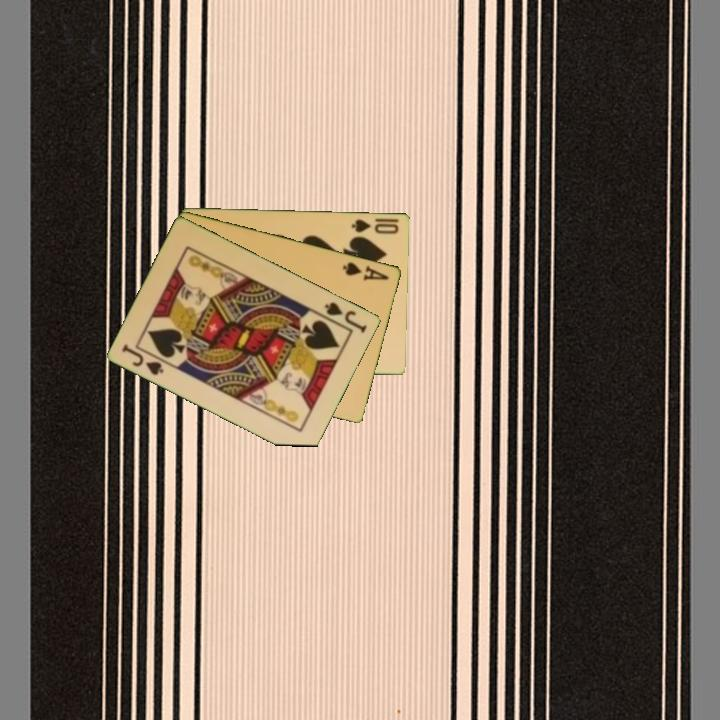10s: (348, 216, 401, 236)
As: (339, 258, 392, 283)
Js: (119, 340, 172, 378), (321, 298, 370, 336)
